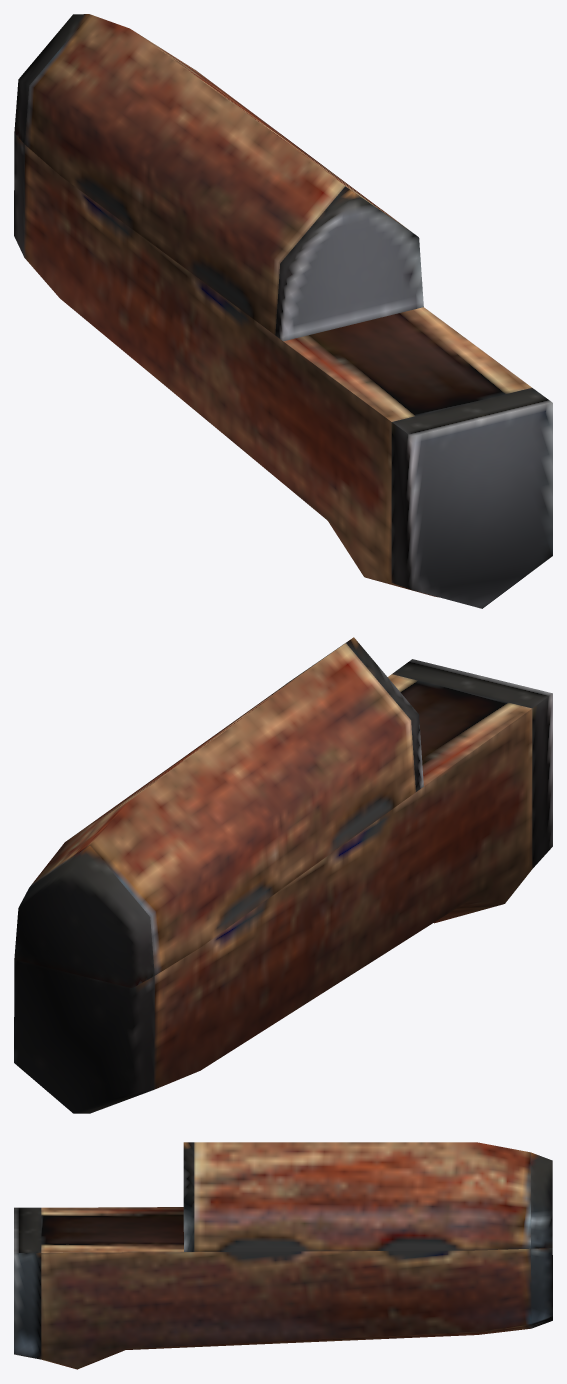
Rendered from AKM_Handguard.fbx.
The picture shows the model from 3 angles, top to bottom: view 1: azimuth 30°, elevation 25°; view 2: azimuth 150°, elevation 25°; view 3: azimuth 270°, elevation 25°; orthographic projection. The views are drawn at different scales.
Visible parts, largest first — view 1: AKM_Wood_Handguard; view 2: AKM_Wood_Handguard; view 3: AKM_Wood_Handguard.
Boxes of the visible parts, x1,y1,x2,y2 form: AKM_Wood_Handguard: [14, 14, 552, 608]; AKM_Wood_Handguard: [14, 637, 552, 1113]; AKM_Wood_Handguard: [14, 1142, 552, 1369].
Size of the model in its own units: 0.0227 by 0.1146 by 0.0533.
